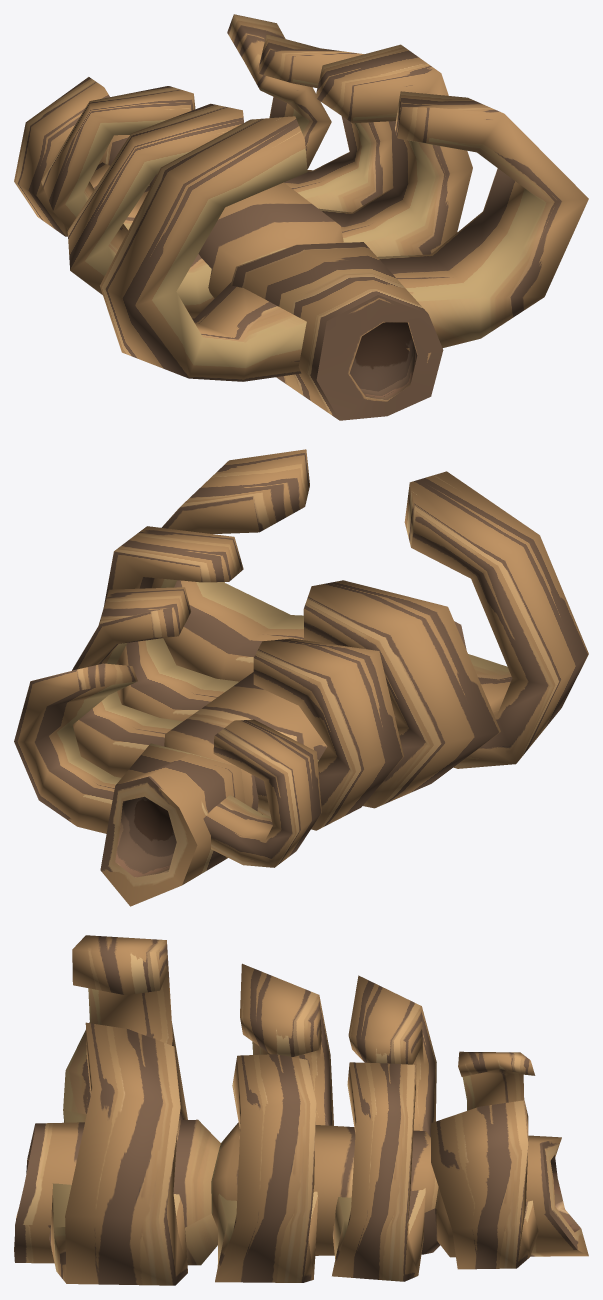
The model's file is SM_PROP_skeleton_ribs_dungeon_02.fbx.
3 renders of one model, top to bottom at view 1: azimuth 30°, elevation 25°; view 2: azimuth 150°, elevation 25°; view 3: azimuth 270°, elevation 25°, orthographic. The views are drawn at different scales.
Visible parts, largest first — view 1: SM_PROP_skeleton_ribs_dungeon_02; view 2: SM_PROP_skeleton_ribs_dungeon_02; view 3: SM_PROP_skeleton_ribs_dungeon_02.
Part boxes in pixels (x1,y1,x2,y2): SM_PROP_skeleton_ribs_dungeon_02: [14, 14, 588, 420]; SM_PROP_skeleton_ribs_dungeon_02: [14, 449, 588, 906]; SM_PROP_skeleton_ribs_dungeon_02: [14, 935, 588, 1285].
Bounding box in the file's own units: 25.3 × 15.06 × 28.35.
